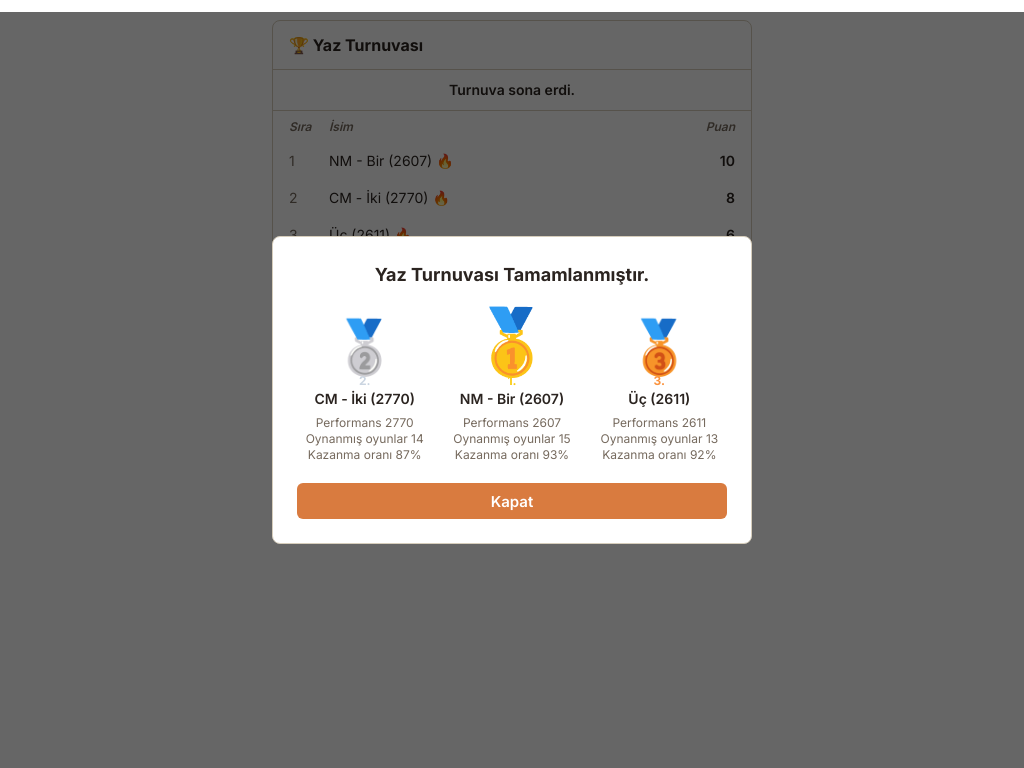
Canlı turnuva sayfası — /play/tournament/[id] › Madde 2026-09-09 (6): turnuva bitiş bildirimi (podyum) › aktiften bitmişe GEÇİŞTE ilk 3'ün bilgileriyle bildirim açılır, "Kapat" kapatır
Check: the text "🏆 Yaz Turnuvası" is shown, box [289,33,423,57]
Check: the text "Yaz Turnuvası Tamamlanmıştır." is shown, box [375,264,649,285]
Click the button "Kapat" at (512, 501), box [297,483,727,519]
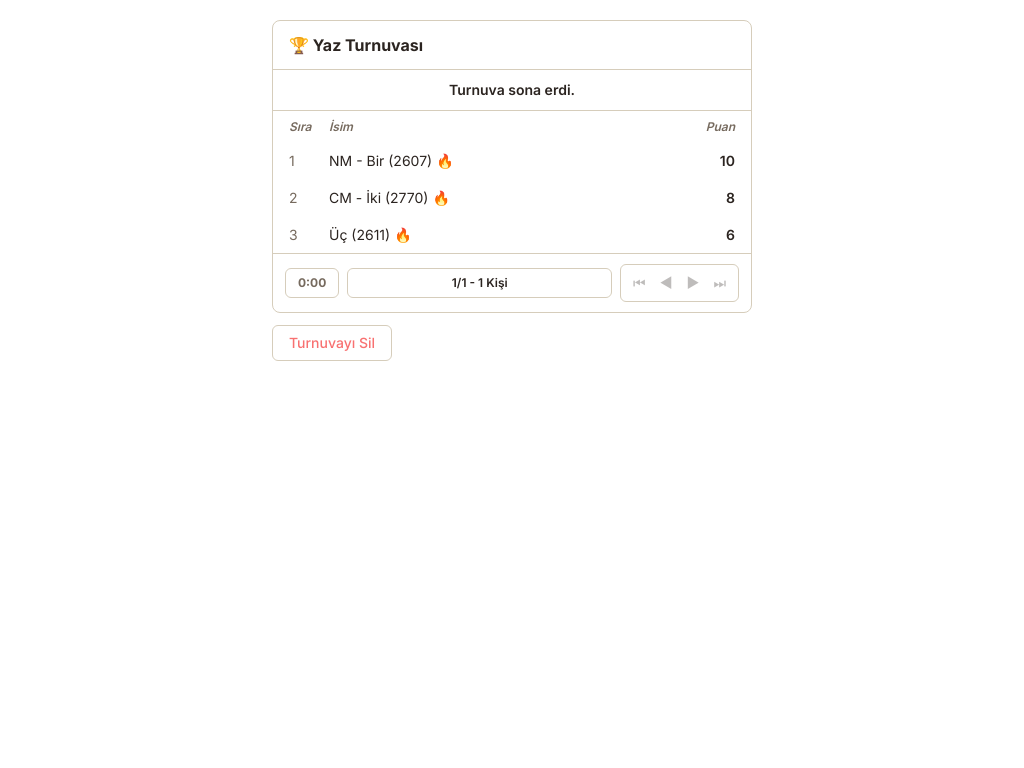
Check: the text "Tamamlanmıştır" is gone
